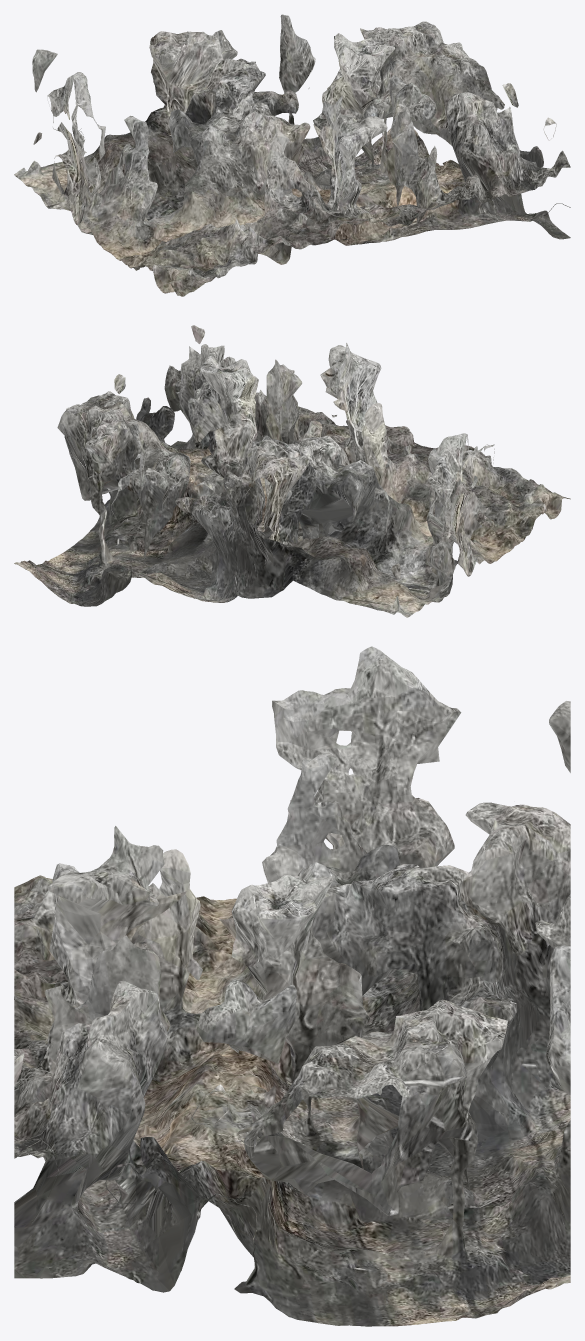
Rendered from Block_L20_195.glb.
3 views of the same model, one above another, from view 1: azimuth 30°, elevation 25°; view 2: azimuth 150°, elevation 25°; view 3: azimuth 270°, elevation 25° (orthographic). The views are drawn at different scales.
Parts seen in each view (by area): view 1: rtc; view 2: rtc; view 3: rtc.
Boxes of the visible parts, x1,y1,x2,y2 form: rtc: [14, 14, 570, 296]; rtc: [14, 325, 570, 617]; rtc: [14, 646, 570, 1326].
Size of the model in its own units: 24.45 by 12.61 by 17.65.
Materials: 4 (4 with a texture image).
